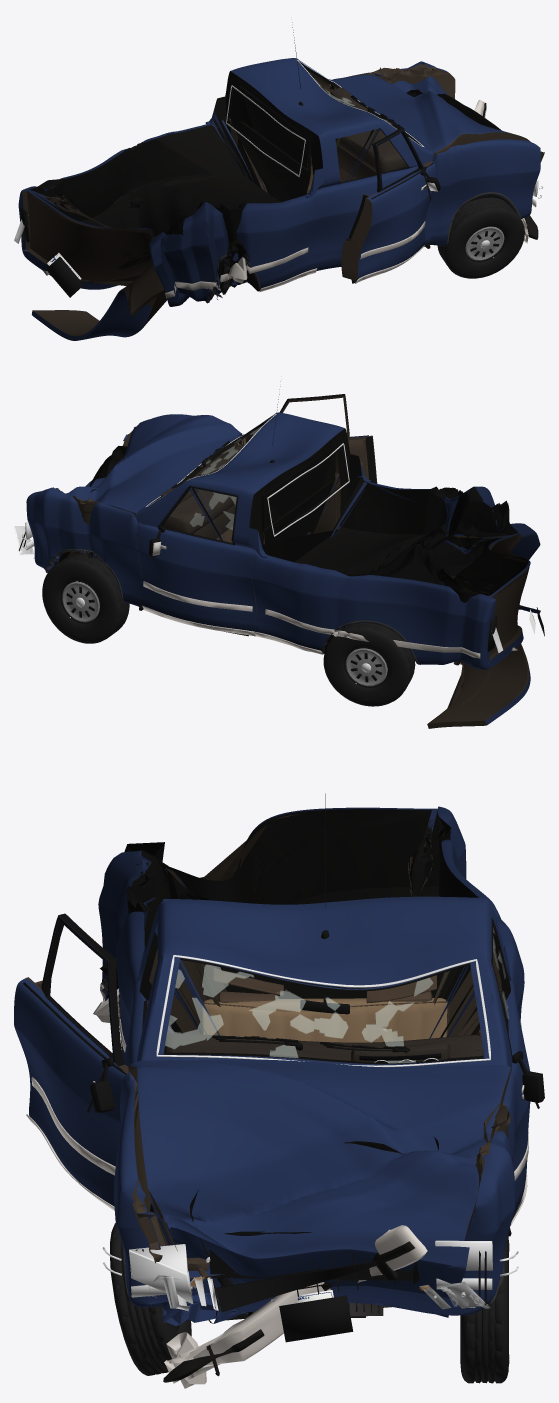
File: pickup87_rear_corner_R_d3_lod1.glb
3 renders of one model, top to bottom at view 1: azimuth 30°, elevation 25°; view 2: azimuth 150°, elevation 25°; view 3: azimuth 270°, elevation 25°, orthographic. The views are drawn at different scales.
Visible parts, largest first — view 1: Body, Hood, Door_FR, Wheel_FR_mesh, Tailgate, Interior, Trim, Ends, Trim_FR, Glass, Bumper_F; view 2: Body, Door_FL, Hood, Wheel_RL_mesh, Wheel_FL_mesh, Tailgate, Interior, Trim, Trim_FL, Glass, Door_FR, Ends (+1 smaller); view 3: Body, Hood, Interior, Door_FR, Ends, Glass, Bumper_F, Wheel_FR_mesh, Wheel_FL_mesh, Trim_FR, Door_FL, Trim (+1 smaller).
Part boxes in pixels (left/top/right/bottom): Body: left=18, top=58, right=544, bottom=306; Hood: left=331, top=74, right=530, bottom=157; Door_FR: left=341, top=128, right=435, bottom=280; Wheel_FR_mesh: left=437, top=197, right=524, bottom=278; Tailgate: left=31, top=263, right=167, bottom=340; Interior: left=307, top=87, right=405, bottom=193; Trim: left=165, top=22, right=521, bottom=303; Ends: left=14, top=180, right=543, bottom=297; Trim_FR: left=351, top=129, right=440, bottom=283; Glass: left=226, top=59, right=424, bottom=176; Bumper_F: left=474, top=100, right=538, bottom=243; Body: left=26, top=412, right=540, bottom=669; Door_FL: left=137, top=485, right=256, bottom=631; Hood: left=65, top=414, right=242, bottom=556; Wheel_RL_mesh: left=323, top=623, right=415, bottom=706; Wheel_FL_mesh: left=42, top=553, right=129, bottom=643; Tailgate: left=427, top=575, right=540, bottom=728; Interior: left=160, top=444, right=244, bottom=542; Trim: left=45, top=381, right=480, bottom=664; Trim_FL: left=142, top=486, right=255, bottom=636; Glass: left=145, top=414, right=349, bottom=536; Door_FR: left=280, top=394, right=377, bottom=483; Ends: left=15, top=476, right=544, bottom=652; Body: left=98, top=806, right=524, bottom=1325; Hood: left=128, top=1059, right=510, bottom=1317; Interior: left=164, top=968, right=483, bottom=1062; Door_FR: left=14, top=913, right=128, bottom=1205; Ends: left=102, top=1231, right=518, bottom=1342; Glass: left=156, top=955, right=490, bottom=1067; Bumper_F: left=163, top=1225, right=427, bottom=1388; Wheel_FR_mesh: left=110, top=1223, right=191, bottom=1375; Wheel_FL_mesh: left=460, top=1234, right=509, bottom=1383; Trim_FR: left=23, top=916, right=125, bottom=1210; Door_FL: left=491, top=917, right=530, bottom=1218; Trim: left=93, top=793, right=521, bottom=1314.
Size of the model in its own units: 4.82 by 2.76 by 2.56.
33 materials, 5 textured.
